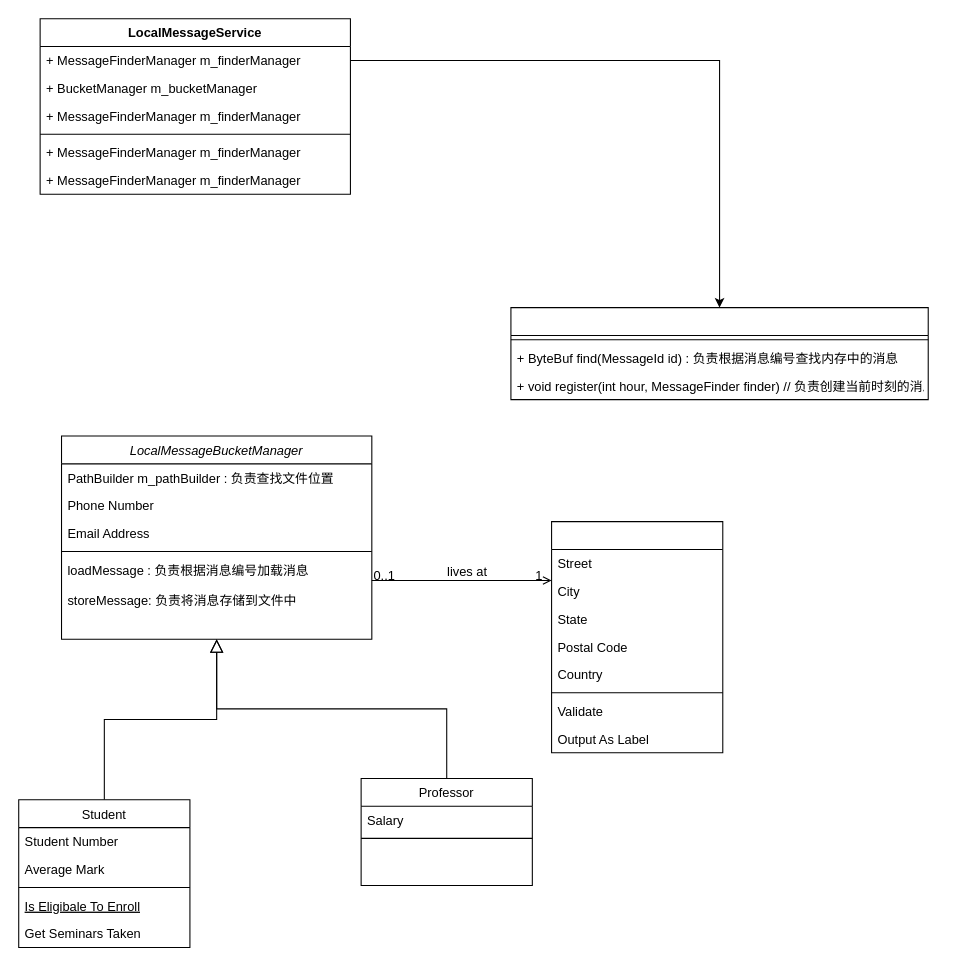
This 953x969 diagram has some shape labels left out. The box of each missing label's shape, as (x1, y1, x2, y2) in pixels:
Address: (551, 521, 723, 753)
DefaultMessageFinderManager: (510, 307, 928, 400)
